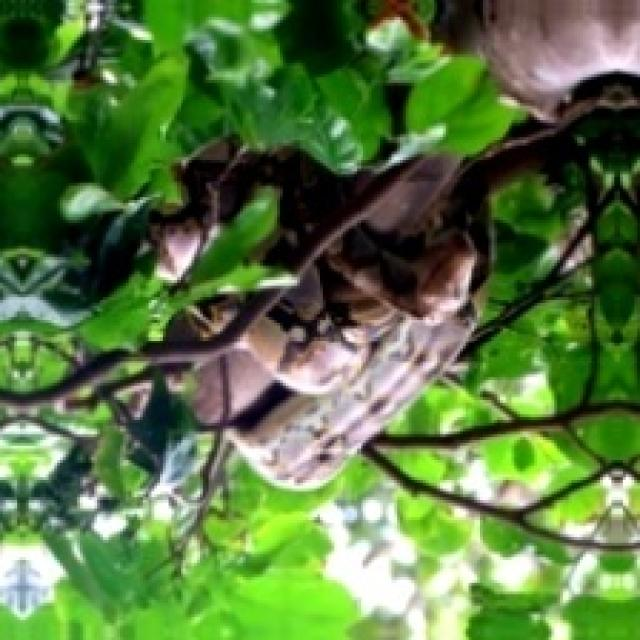reticulated python: (198, 186, 485, 488), (151, 138, 461, 283)
